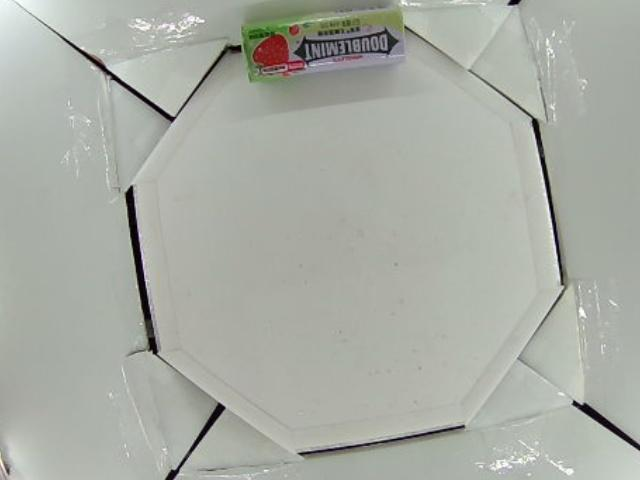Bottle: (243, 4, 406, 84)
